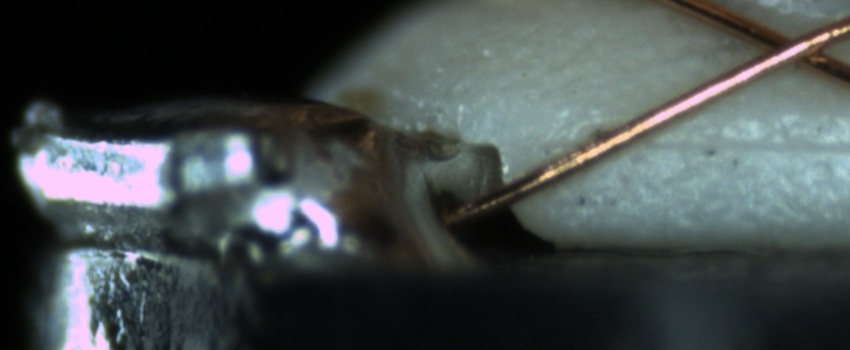CL: (734, 13, 843, 79)
DL: (637, 112, 850, 176)
